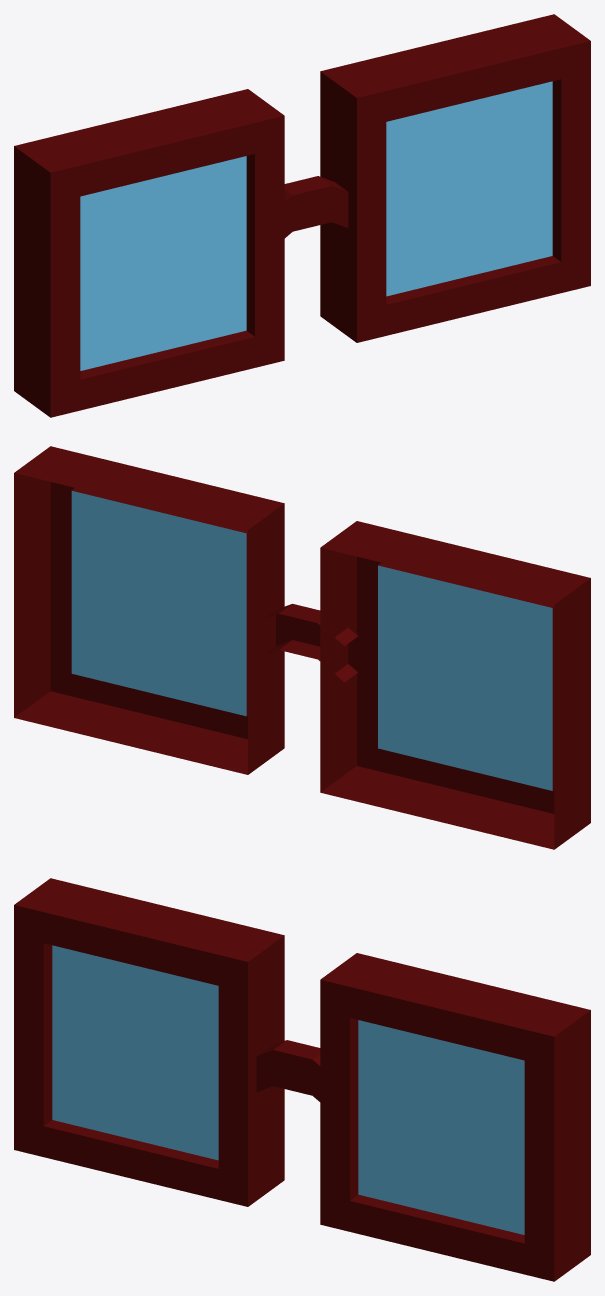
Rendered from Glasses 01.FBX.
The picture shows the model from 3 angles, top to bottom: view 1: azimuth 30°, elevation 25°; view 2: azimuth 150°, elevation 25°; view 3: azimuth 330°, elevation 25°; orthographic projection.
Parts seen in each view (by area): view 1: Glasses 01; view 2: Glasses 01; view 3: Glasses 01.
Boxes of the visible parts, bbox=[...] form: Glasses 01: bbox=[14, 14, 590, 417]; Glasses 01: bbox=[14, 446, 590, 849]; Glasses 01: bbox=[14, 878, 590, 1281].
Bounding box in the file's own units: 41.91 × 4.92 × 18.16.
Materials: 1 (1 with a texture image).
